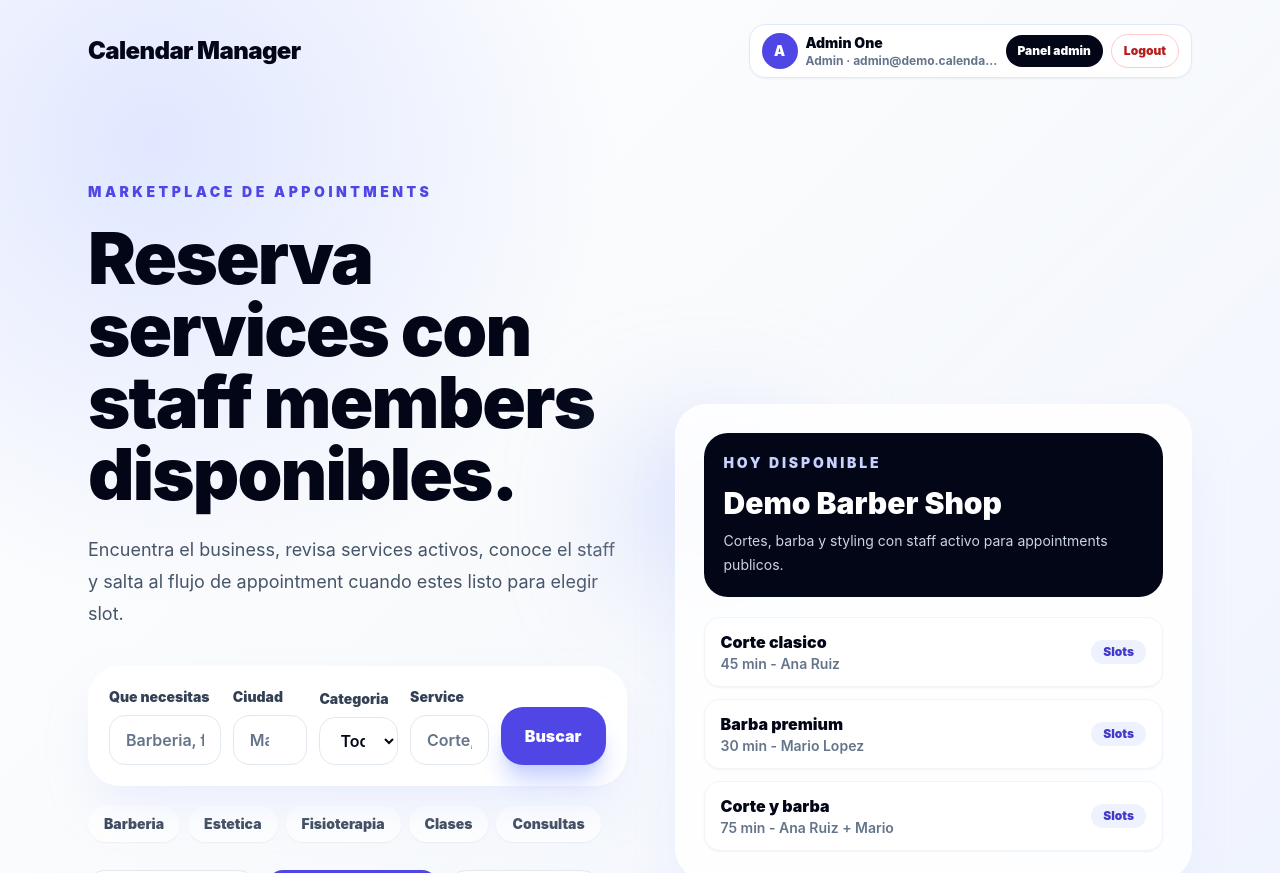
Test case: frontend shell › shows admin session actions on the public home in read-only mode
This screenshot has width=1280, height=873.
Expected: the text "Admin One" is shown, [806,34,883,51]
Expected: the text "Admin · admin@demo.calendar.test" is shown, [806,53,998,69]
Click the button "Logout": (1145, 51) [1111,34,1179,68]
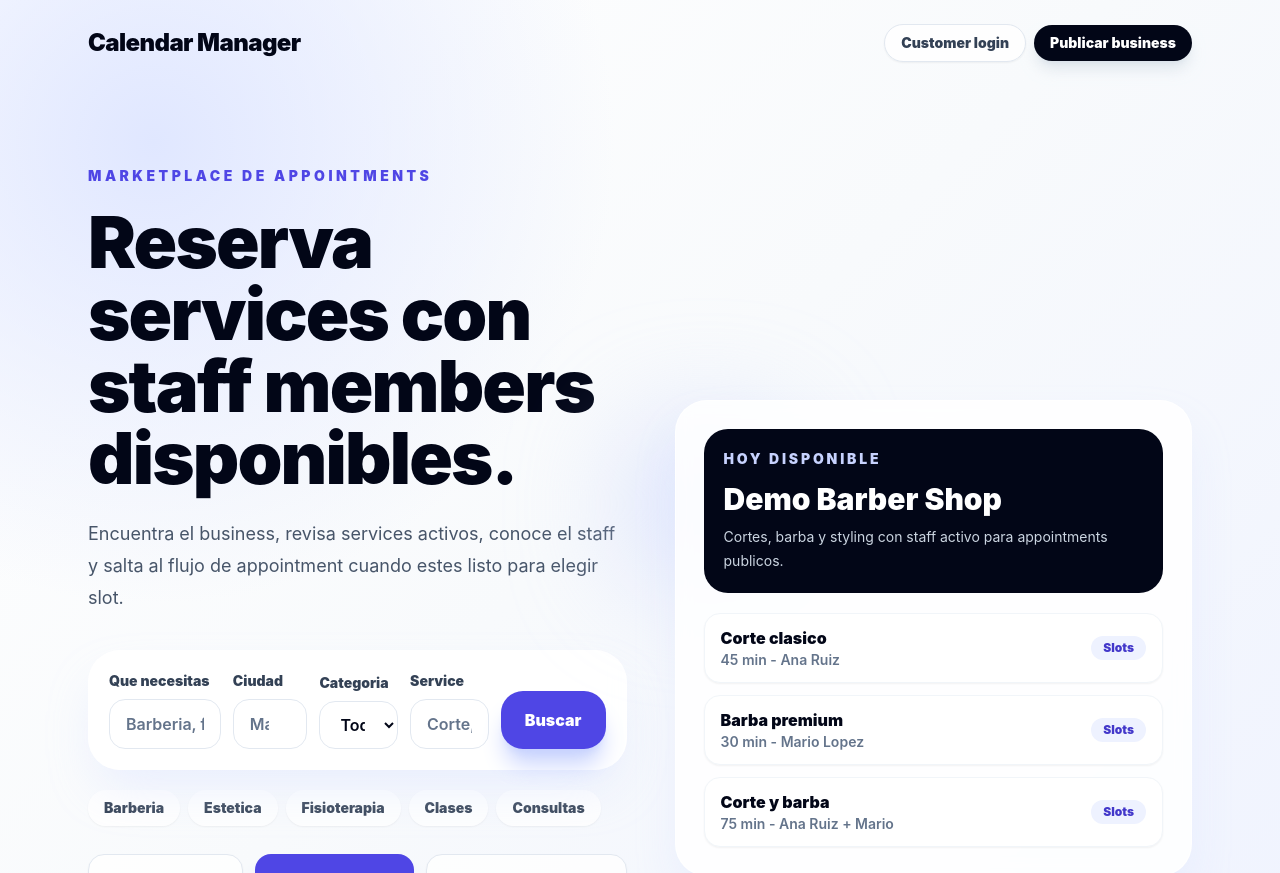
Now the link "Customer login" is shown, box [884,24,1026,62]
